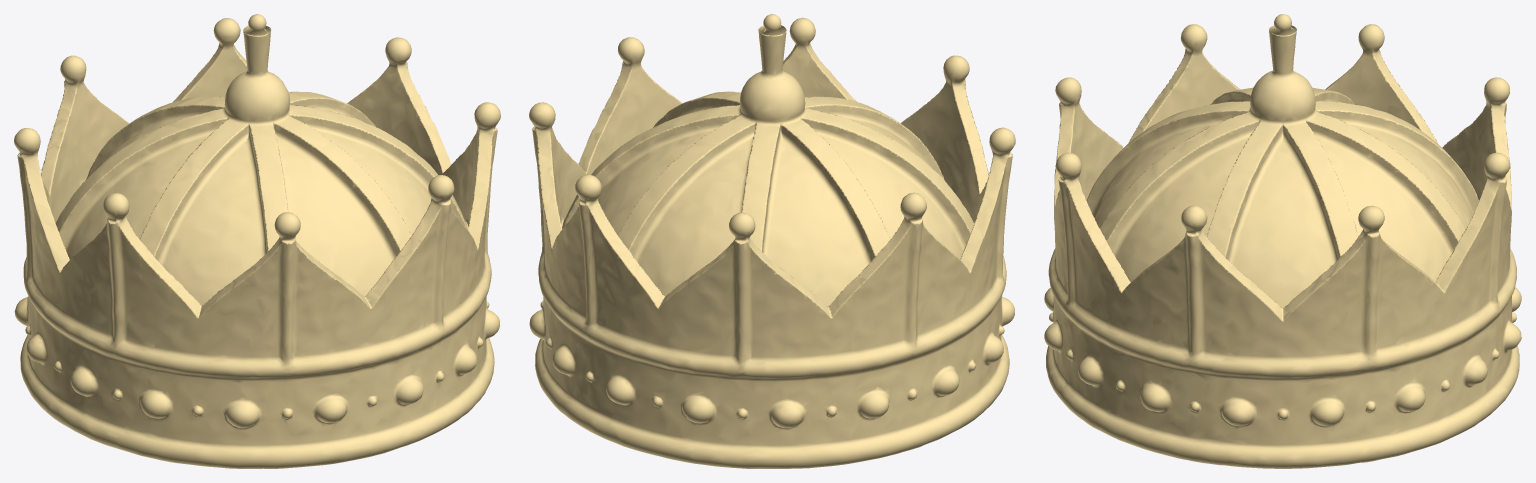
Rendered from crown_lod1.glb.
3 views of the same model, side by side, from view 1: azimuth 30°, elevation 25°; view 2: azimuth 150°, elevation 25°; view 3: azimuth 270°, elevation 25° (orthographic).
Visible parts, largest first — view 1: crown; view 2: crown; view 3: crown.
Boxes of the visible parts, x1=… form: crown: x1=14, y1=14, x2=500, y2=468; crown: x1=529, y1=14, x2=1015, y2=468; crown: x1=1044, y1=14, x2=1521, y2=468.
Size of the model in its own units: 4.68 by 3.87 by 4.67.
